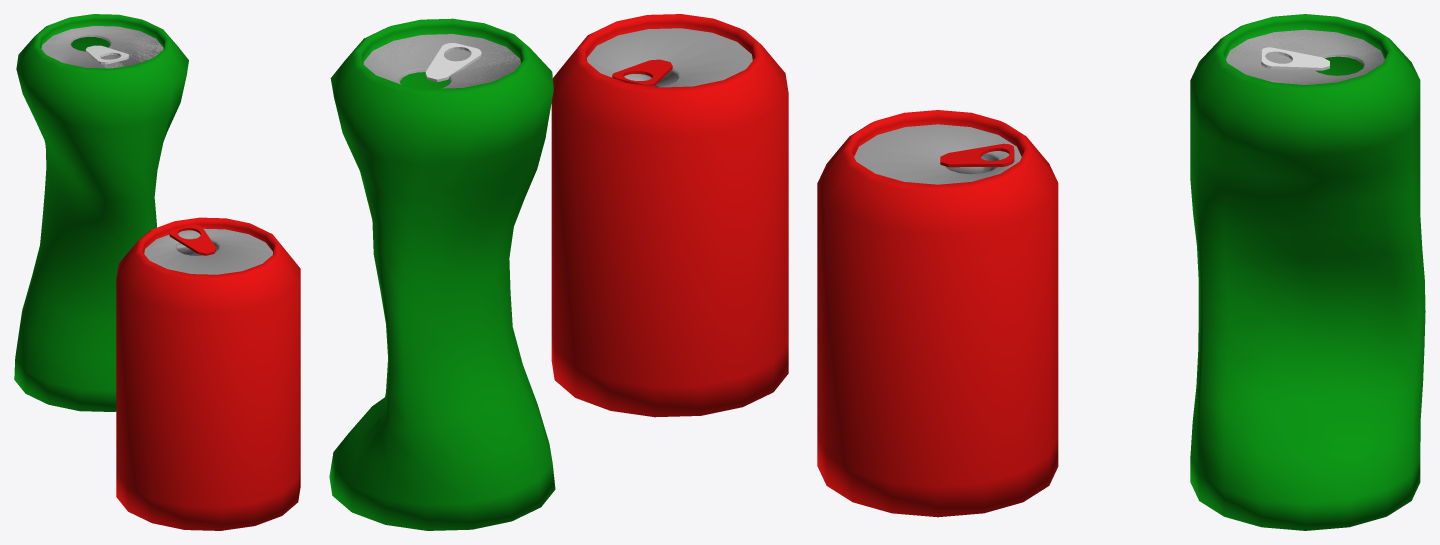
File: smallcan.fbx
3 views of the same model, side by side, from view 1: azimuth 30°, elevation 25°; view 2: azimuth 150°, elevation 25°; view 3: azimuth 270°, elevation 25° (orthographic). The views are drawn at different scales.
Visible parts, largest first — view 1: Cylinder.007, Cylinder.006, Cylinder.001, Plane; view 2: Cylinder.007, Cylinder.006, Cylinder.001, Plane; view 3: Cylinder.006, Cylinder.007, Cylinder.001, Plane.
Part boxes in pixels (bbox=[...]): Cylinder.007: bbox=[116, 217, 300, 530]; Cylinder.006: bbox=[14, 14, 188, 411]; Cylinder.001: bbox=[41, 26, 163, 68]; Plane: bbox=[85, 45, 129, 64]; Cylinder.007: bbox=[551, 14, 788, 417]; Cylinder.006: bbox=[329, 18, 555, 530]; Cylinder.001: bbox=[364, 34, 520, 87]; Plane: bbox=[425, 43, 481, 81]; Cylinder.006: bbox=[1190, 14, 1425, 530]; Cylinder.007: bbox=[817, 110, 1058, 517]; Cylinder.001: bbox=[1226, 29, 1379, 84]; Plane: bbox=[1261, 47, 1329, 70].
Bounding box in the file's own units: 79.45 × 134 × 168.
